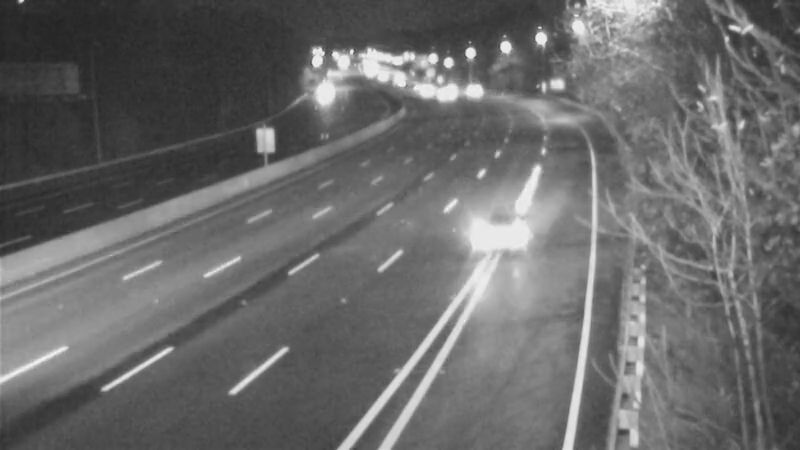vehicle: (468, 191, 548, 271), (438, 61, 488, 111)
